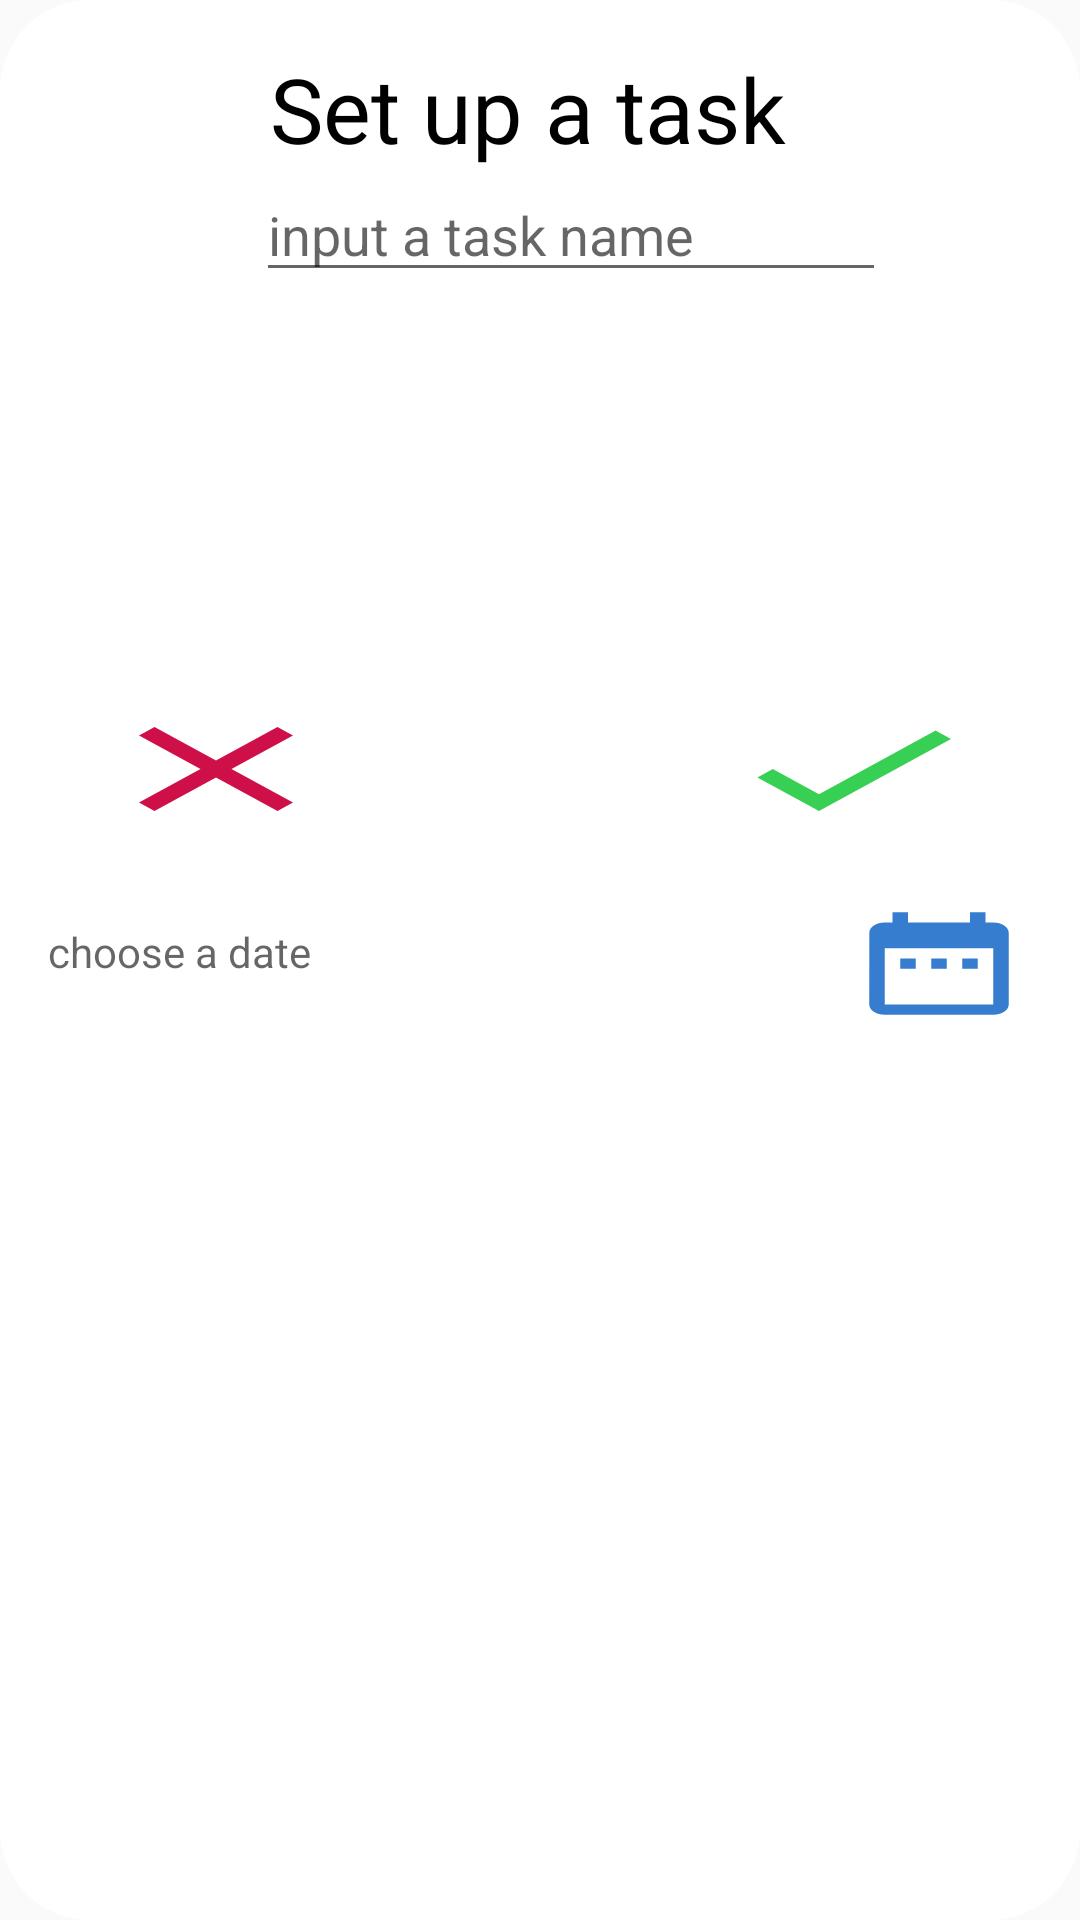

Where icons sit on this 1080×1920 app screen, as (x1, y1, x2, y2):
close: (139, 727, 293, 811)
date range: (869, 912, 1009, 1015)
done: (757, 730, 951, 811)
